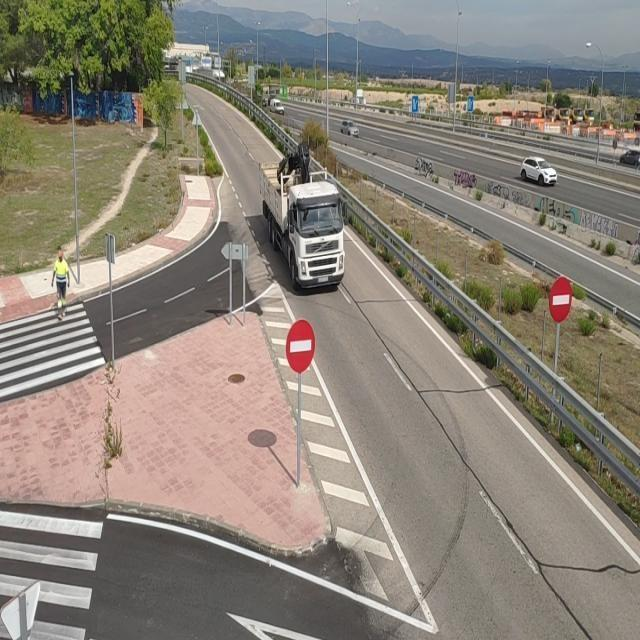Car: (518, 149, 563, 195)
Truck: (256, 156, 356, 298)
